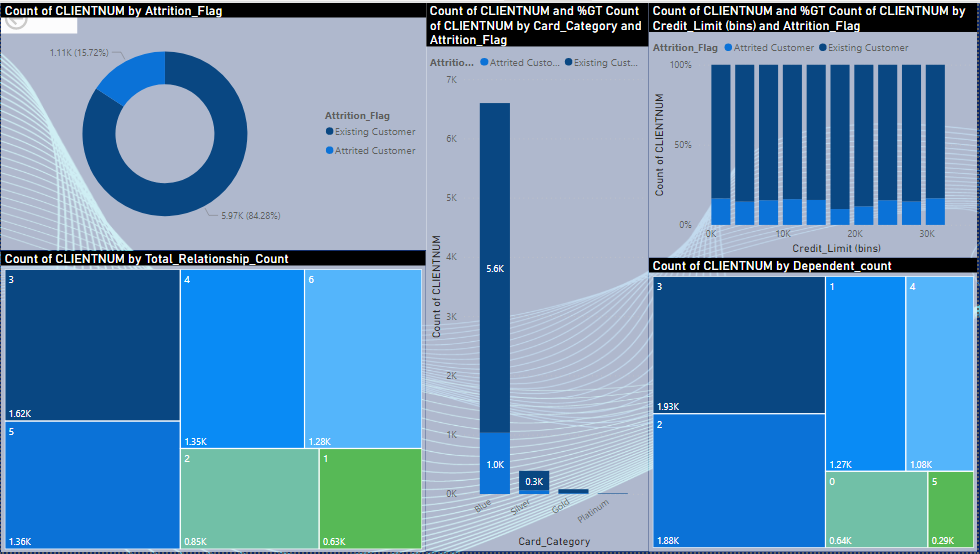

Layout of this report page (visuals, bound fields, positions):
{"tool":"powerbi","page":{"name":"Services and Contacts ","canvas":[1280,720],"ordinal":2},"visuals":[{"type":"hundredPercentStackedColumnChart","fields":{"Category":["BankChurners.Card_Category"],"Series":["BankChurners.Attrition_Flag"],"Y":["CountNonNull(BankChurners.CLIENTNUM)"]},"box":[557.7,0,292.3,719],"z":0},{"type":"hundredPercentStackedColumnChart","fields":{"Category":["BankChurners.Credit_Limit (bins)"],"Series":["BankChurners.Attrition_Flag"],"Y":["CountNonNull(BankChurners.CLIENTNUM)"]},"box":[849.2,0,430.8,334.5],"z":1000},{"type":"treemap","fields":{"Group":["BankChurners.Total_Relationship_Count"],"Values":["CountNonNull(BankChurners.CLIENTNUM)"]},"box":[0,324.8,557.4,396.4],"z":2000},{"type":"treemap","fields":{"Group":["BankChurners.Dependent_count"],"Values":["CountNonNull(BankChurners.CLIENTNUM)"]},"box":[849.2,334.5,430.8,385.4],"z":3000},{"type":"actionButton","box":[0,0,100,40],"z":4000},{"type":"donutChart","fields":{"Category":["BankChurners.Attrition_Flag"],"Y":["CountNonNull(BankChurners.CLIENTNUM)"]},"box":[0,0,557.7,324.2],"z":5000}]}

Visuals, with their boxes in screenshot pixels (x1, y1, x2, y2), scaled from the page's 1280x720 canvas onto the 980x554 screenshot:
hundredPercentStackedColumnChart - BankChurners.Card_Category x BankChurners.Attrition_Flag: [x1=427, y1=0, x2=651, y2=553]
hundredPercentStackedColumnChart - BankChurners.Credit_Limit (bins) x BankChurners.Attrition_Flag: [x1=650, y1=0, x2=979, y2=257]
treemap - BankChurners.Total_Relationship_Count x CountNonNull(BankChurners.CLIENTNUM): [x1=0, y1=250, x2=427, y2=553]
treemap - BankChurners.Dependent_count x CountNonNull(BankChurners.CLIENTNUM): [x1=650, y1=257, x2=979, y2=553]
actionButton: [x1=0, y1=0, x2=77, y2=31]
donutChart - BankChurners.Attrition_Flag x CountNonNull(BankChurners.CLIENTNUM): [x1=0, y1=0, x2=427, y2=249]
